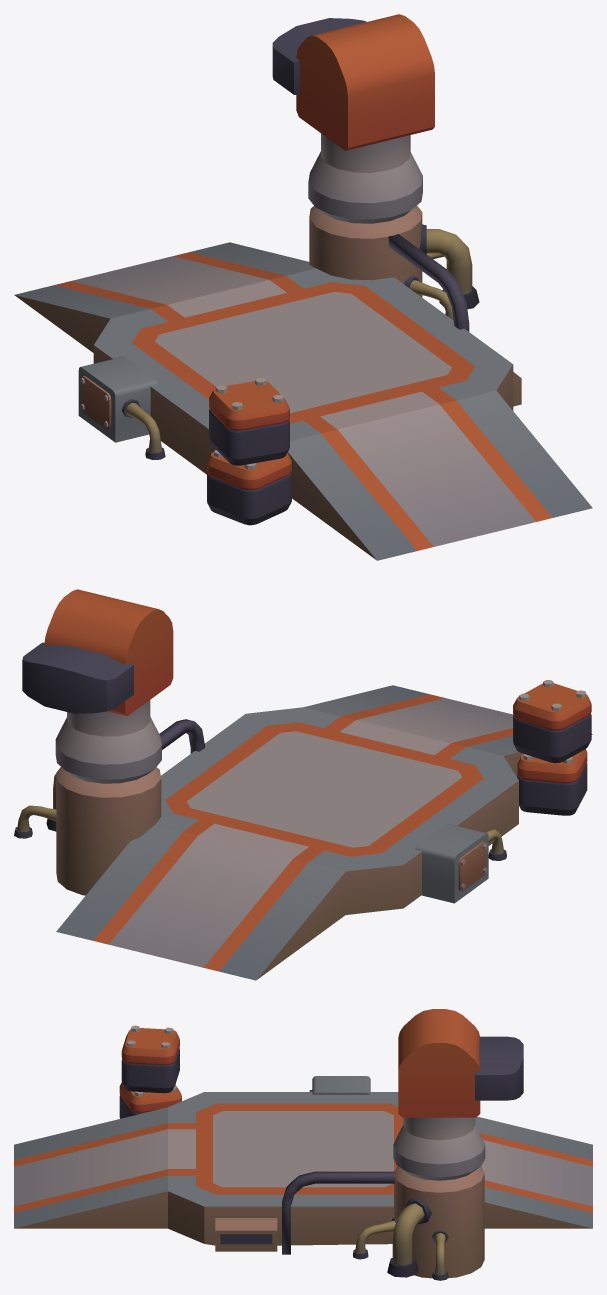
Rendered from RepairTerminal.fbx.
The picture shows the model from 3 angles, top to bottom: view 1: azimuth 30°, elevation 25°; view 2: azimuth 150°, elevation 25°; view 3: azimuth 270°, elevation 25°; orthographic projection. The views are drawn at different scales.
Parts seen in each view (by area): view 1: RepairTerminal, Cube.004; view 2: RepairTerminal, Cube.004; view 3: RepairTerminal, Cube.004.
Part boxes in pixels (<box>): RepairTerminal: <box>14,133,592,560</box>; Cube.004: <box>272,14,434,150</box>; RepairTerminal: <box>14,680,592,980</box>; Cube.004: <box>22,589,173,716</box>; RepairTerminal: <box>14,1025,592,1280</box>; Cube.004: <box>398,1009,523,1117</box>.
Bounding box in the file's own units: 879 × 568 × 1274.
